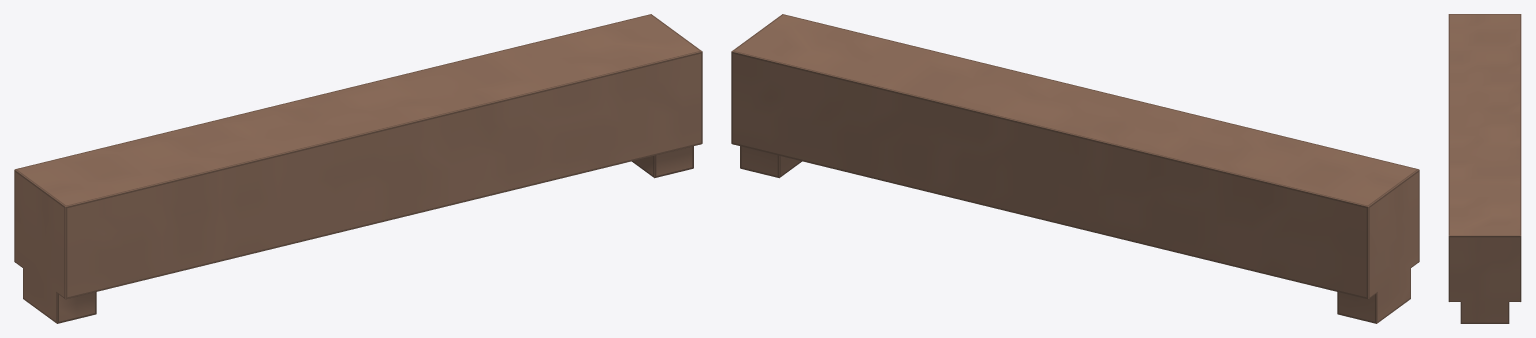
3 views of the same model, side by side, from view 1: azimuth 30°, elevation 25°; view 2: azimuth 150°, elevation 25°; view 3: azimuth 270°, elevation 25° (orthographic). The views are drawn at different scales.
Parts seen in each view (by area): view 1: part-c; view 2: part-c; view 3: part-c.
Boxes of the visible parts, left/top/right/bottom form: part-c: left=14, top=14, right=702, bottom=323; part-c: left=731, top=14, right=1419, bottom=323; part-c: left=1448, top=14, right=1521, bottom=323.
Bounding box in the file's own units: 0.6513 × 0.1208 × 0.0908.
